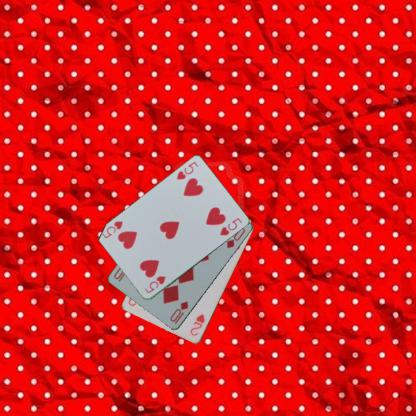10d: (167, 299, 189, 325)
2h: (188, 312, 206, 338)
5h: (142, 273, 167, 295), (174, 159, 199, 181)
